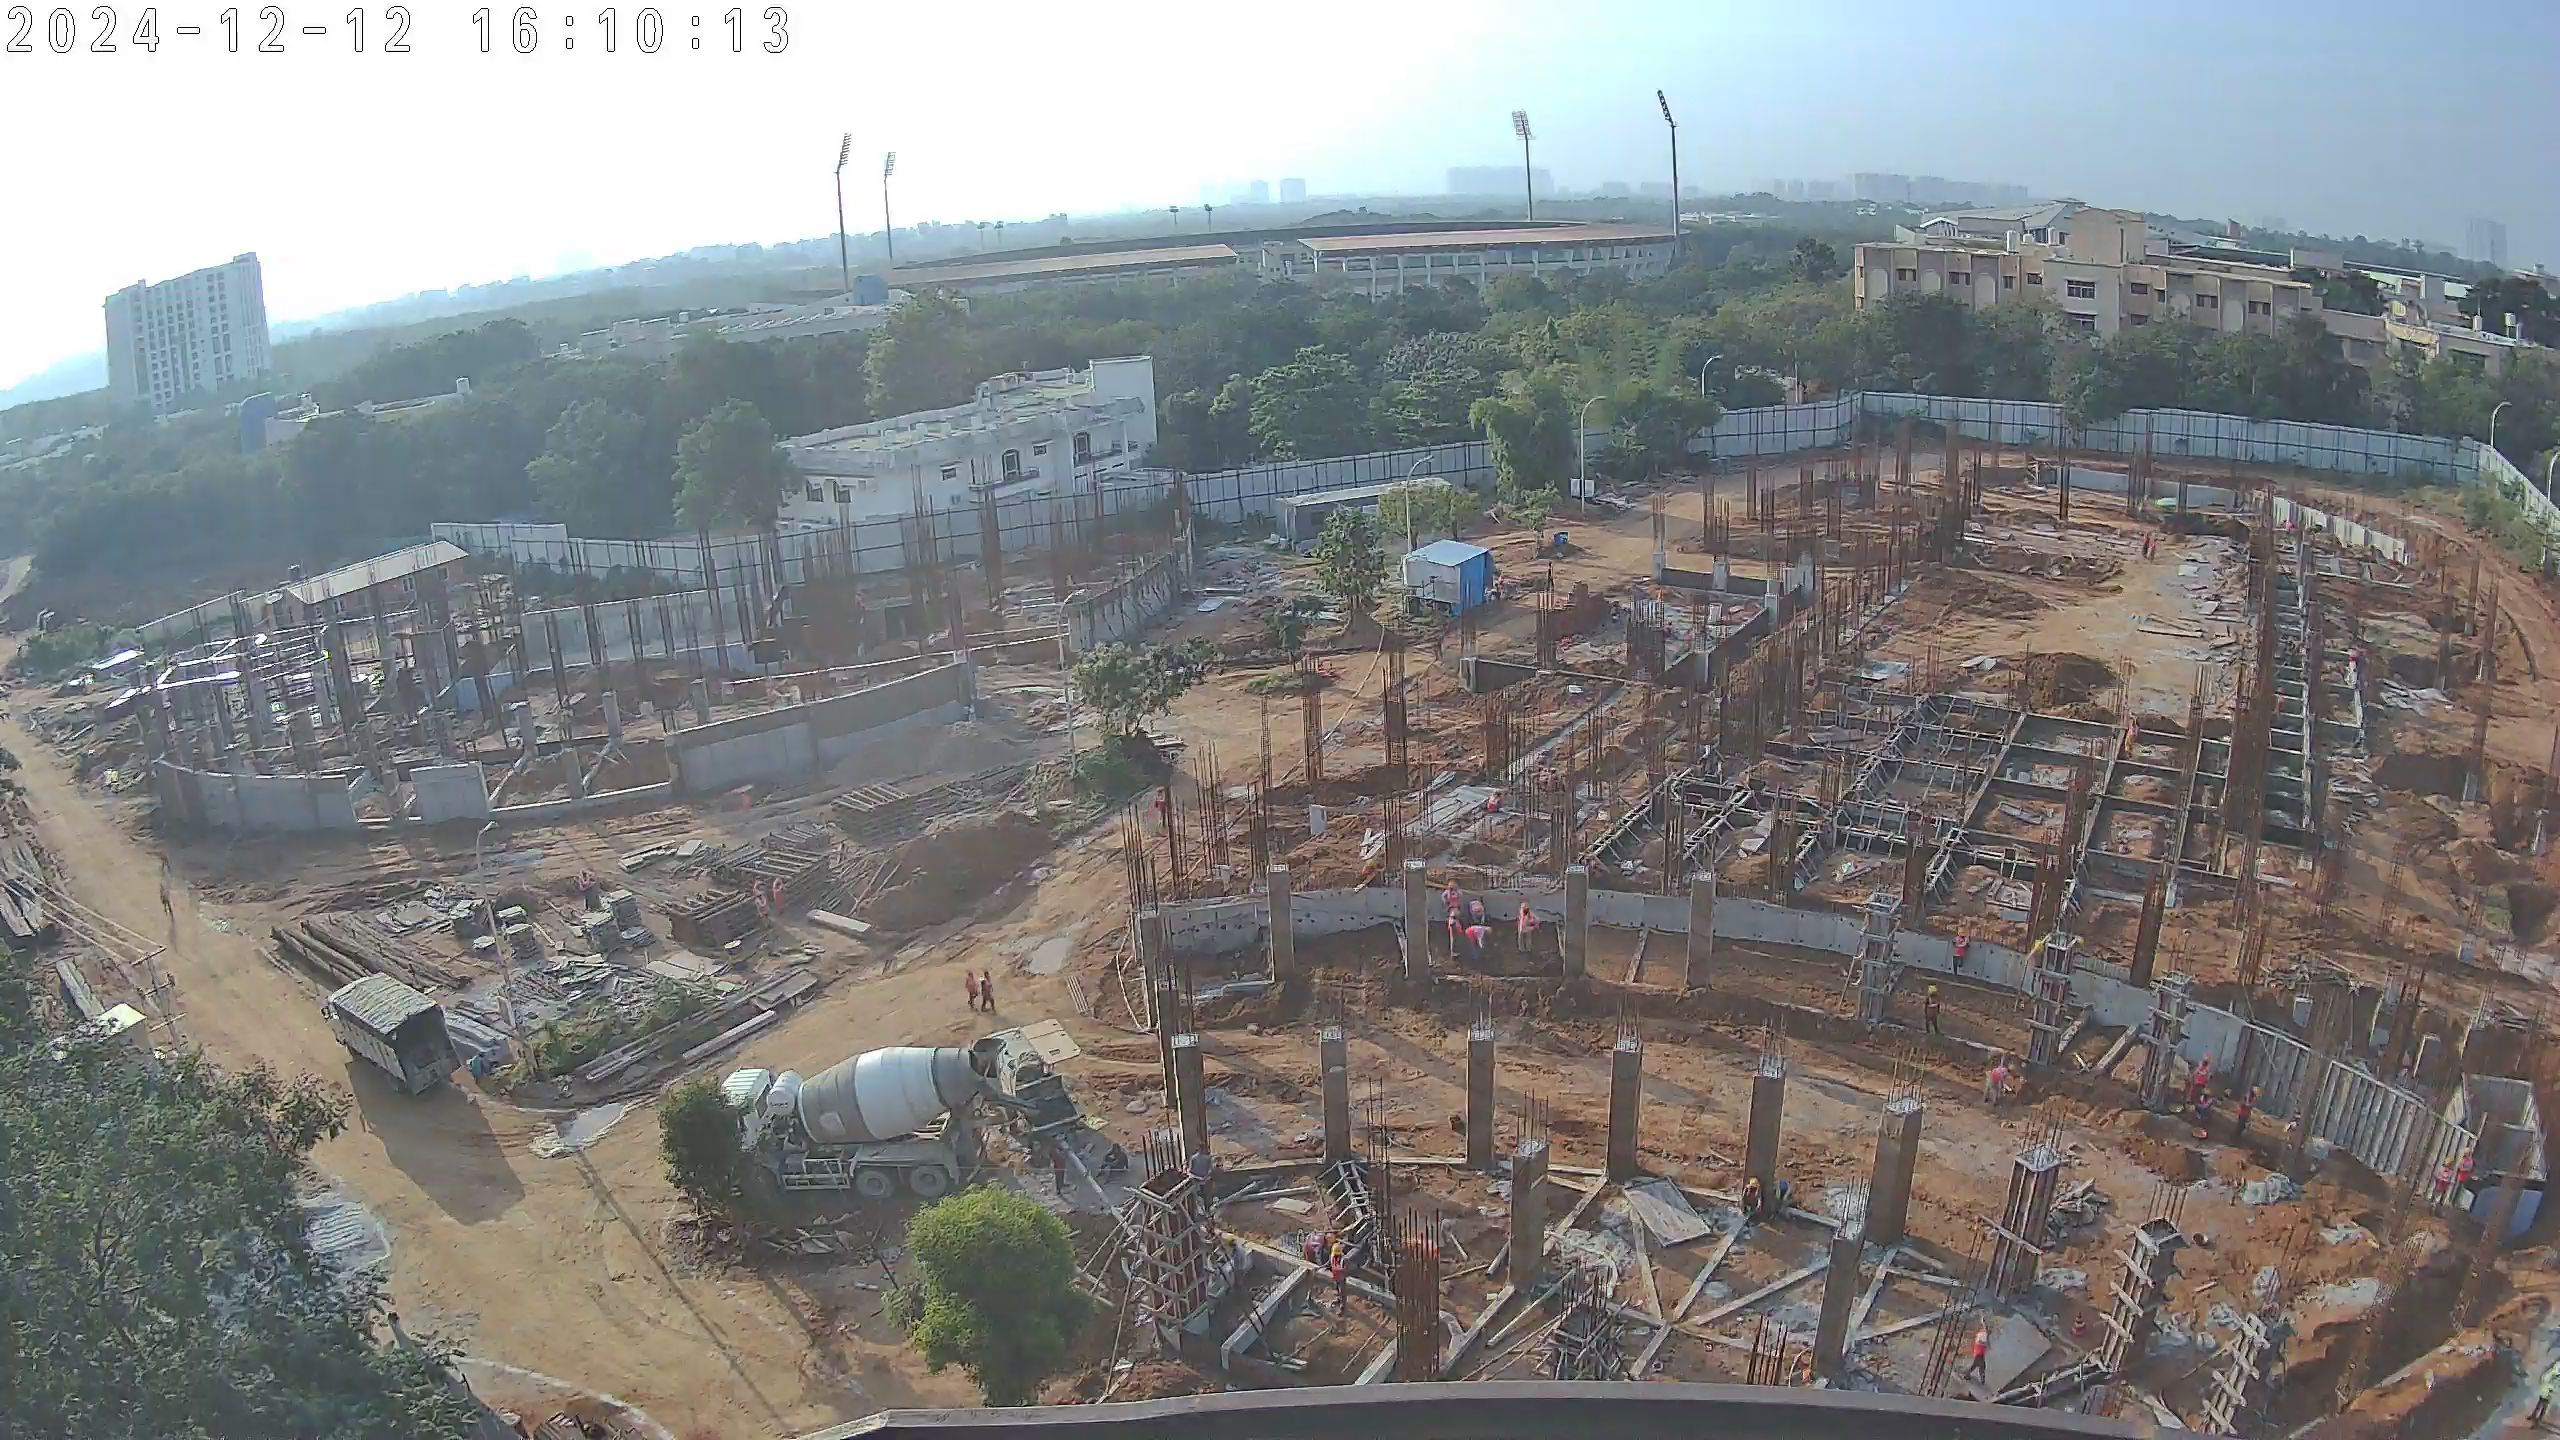truck: (718, 1037, 1002, 1200), (322, 970, 458, 1114)
worker: (1324, 1243, 1354, 1317), (2448, 1143, 2478, 1210), (1983, 1054, 2020, 1108), (1296, 1225, 1321, 1304), (1147, 789, 1181, 847), (1964, 1324, 1987, 1408), (1918, 981, 1948, 1043), (2185, 1052, 2212, 1116), (1047, 1135, 1072, 1202), (2231, 1087, 2262, 1141), (1098, 1139, 1134, 1185), (2429, 1147, 2453, 1212), (1512, 897, 1539, 954), (573, 862, 600, 917), (1735, 1173, 1763, 1223), (1441, 906, 1467, 958), (1439, 879, 1468, 923), (748, 886, 776, 931), (1316, 1226, 1342, 1269), (1767, 1177, 1794, 1217), (768, 874, 790, 922), (1947, 931, 1972, 972), (977, 969, 998, 1015), (1465, 894, 1492, 929), (1464, 924, 1493, 956), (964, 965, 982, 1016), (739, 790, 759, 829), (158, 883, 175, 920), (1485, 788, 1507, 814), (154, 846, 174, 874), (2274, 687, 2285, 722), (2147, 541, 2158, 564), (2141, 533, 2151, 557)
